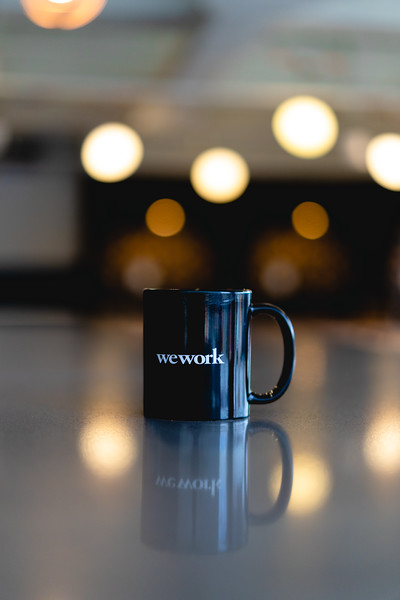wework: (154, 344, 228, 369)
